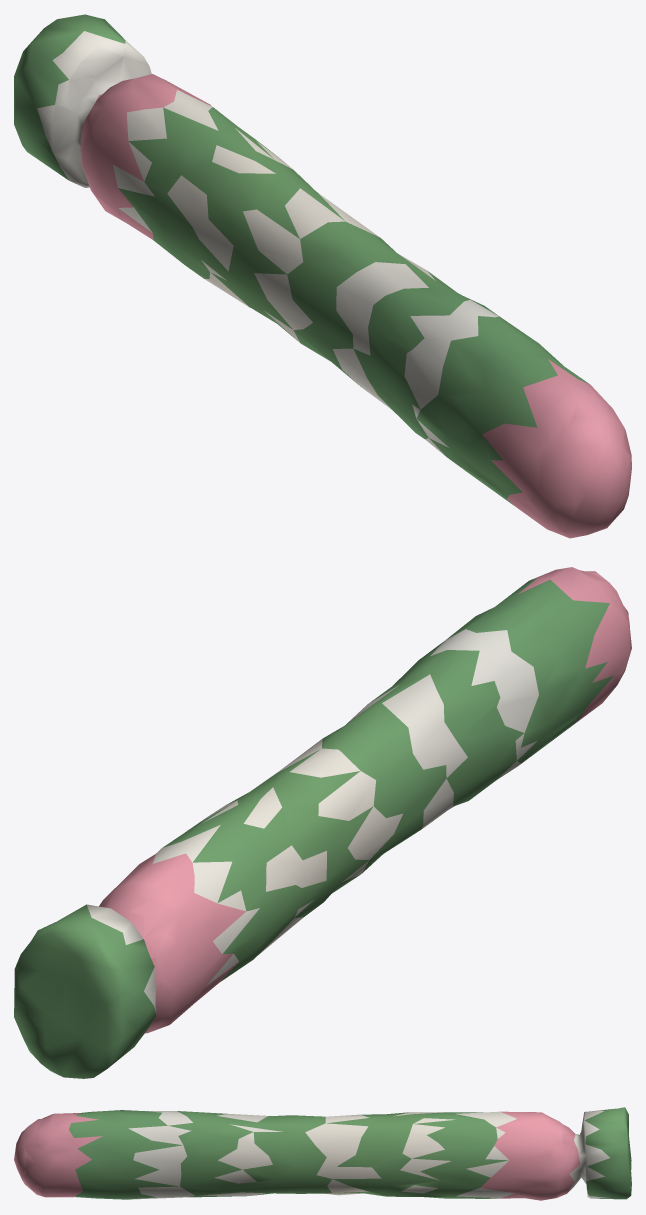
The model's file is den_sock_c_lod2.glb.
3 views of the same model, one above another, from view 1: azimuth 30°, elevation 25°; view 2: azimuth 150°, elevation 25°; view 3: azimuth 270°, elevation 25° (orthographic). The views are drawn at different scales.
Visible parts, largest first — view 1: den_sock_c.001; view 2: den_sock_c.001; view 3: den_sock_c.001.
Boxes of the visible parts, x1,y1,x2,y2 form: den_sock_c.001: (14, 14, 631, 538); den_sock_c.001: (14, 567, 631, 1078); den_sock_c.001: (14, 1107, 631, 1200).
Size of the model in its own units: 2.82 by 3.59 by 23.86.
